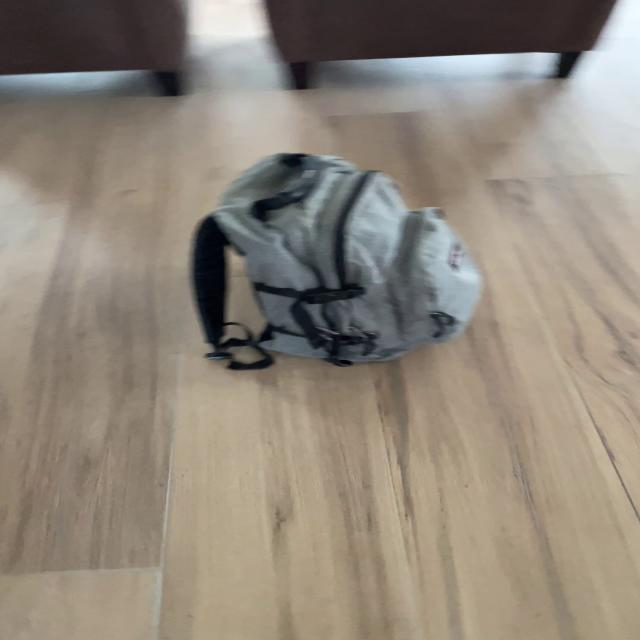backpack: (188, 142, 492, 378)
